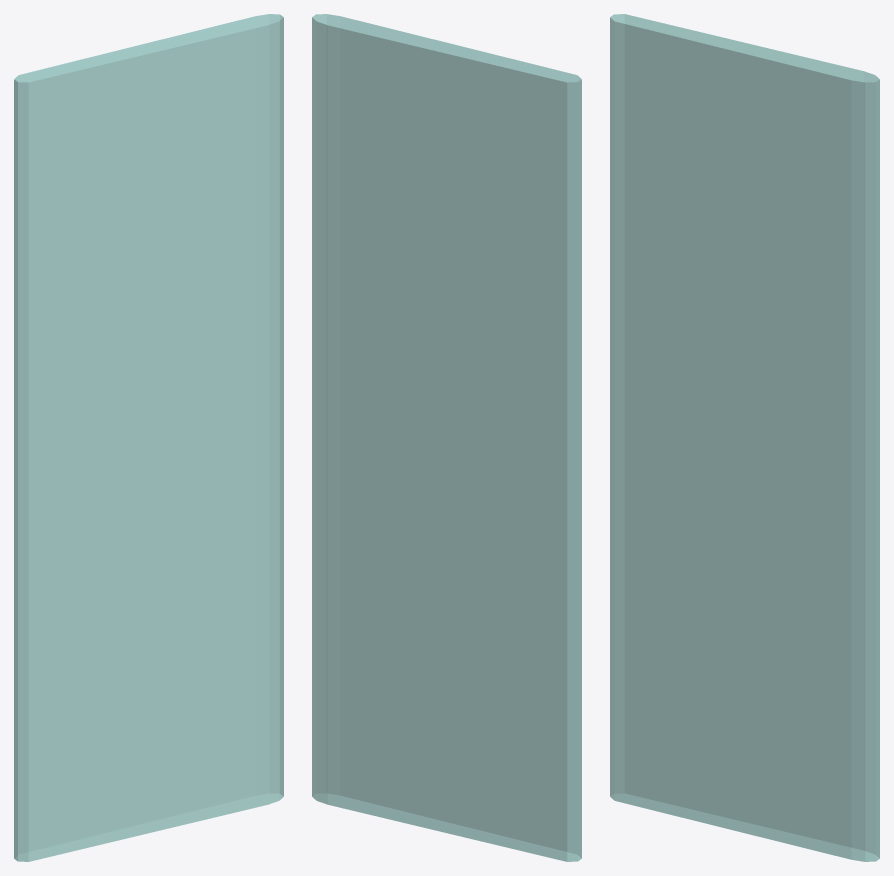
Rendered from TransparentDoor1.fbx.
3 renders of one model, left to right at view 1: azimuth 30°, elevation 25°; view 2: azimuth 150°, elevation 25°; view 3: azimuth 330°, elevation 25°, orthographic.
Visible parts, largest first — view 1: Transparent Door 1; view 2: Transparent Door 1; view 3: Transparent Door 1.
Boxes of the visible parts, box(x1,y1,x2,y2) form: Transparent Door 1: box(14, 14, 283, 861); Transparent Door 1: box(312, 14, 581, 861); Transparent Door 1: box(610, 14, 879, 861).
Size of the model in its own units: 480 by 1345 by 39.12.
